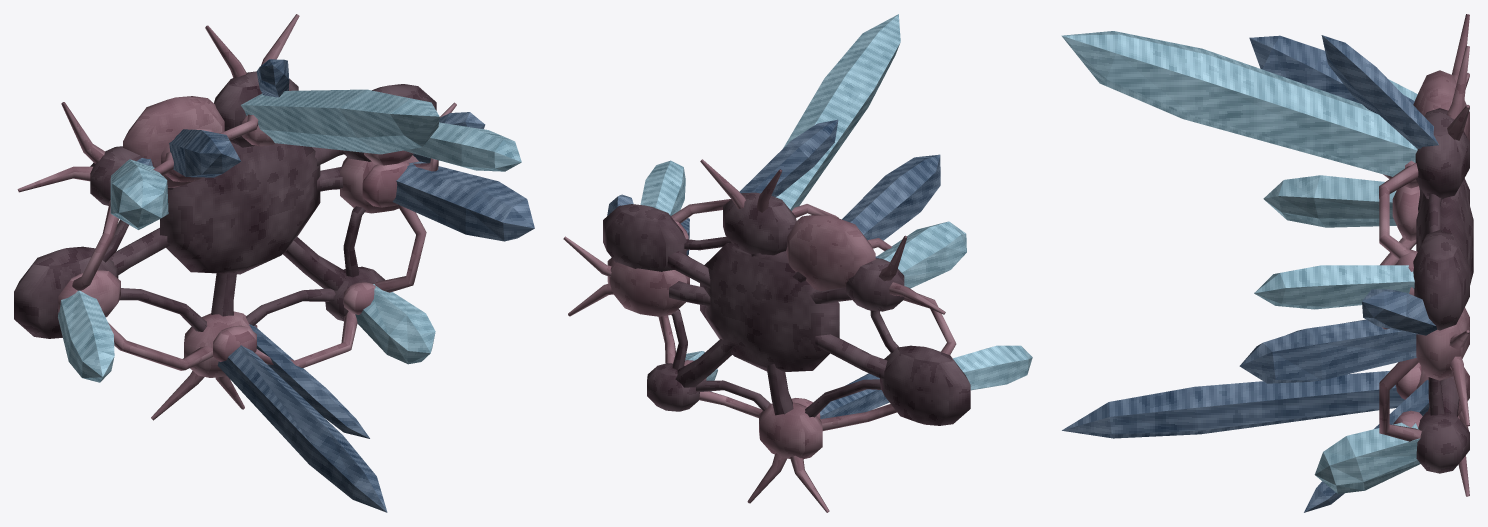
Rendered from colony_wall.glb.
The picture shows the model from 3 angles, left to right: view 1: azimuth 30°, elevation 25°; view 2: azimuth 150°, elevation 25°; view 3: azimuth 270°, elevation 25°; orthographic projection. The views are drawn at different scales.
Visible parts, largest first — view 1: colony_wall; view 2: colony_wall; view 3: colony_wall.
Part boxes in pixels (box(x1,y1,x2,y2)): colony_wall: box(14, 14, 534, 512); colony_wall: box(563, 14, 1032, 512); colony_wall: box(1061, 14, 1473, 512).
Size of the model in its own units: 1.13 by 1.01 by 0.8059.
Materials: 5 (5 with a texture image).
